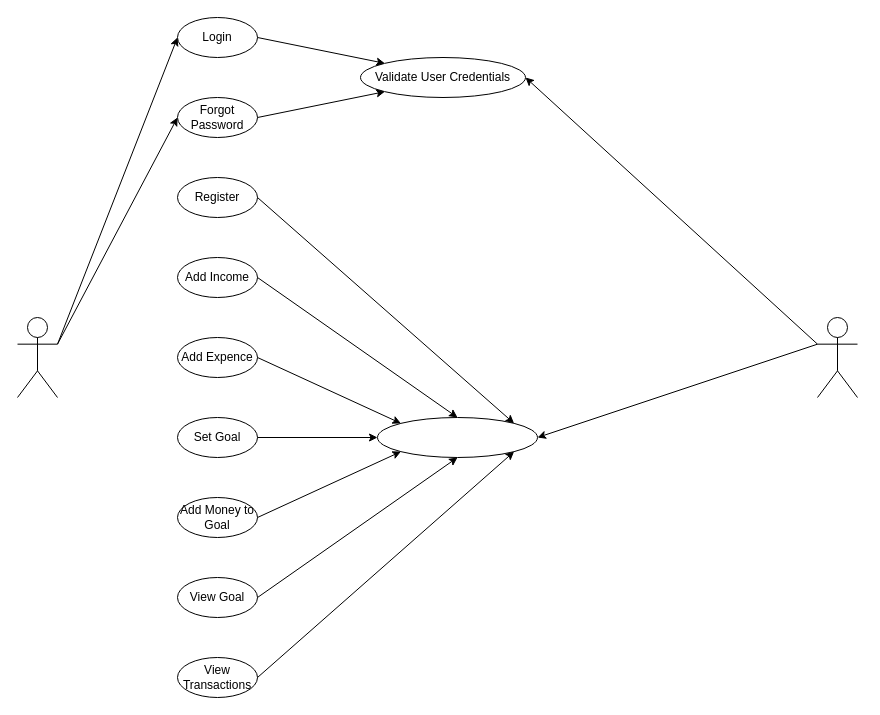
The diagram is 880 pixels wide and 715 high, and some of its shapes have lost their labels. Here are the shapes that lost their labels. From the top down, the centre of each, then its label:
At (37,357): "User".
At (837,357): "Database".
At (457,437): "Load User From Databse".
